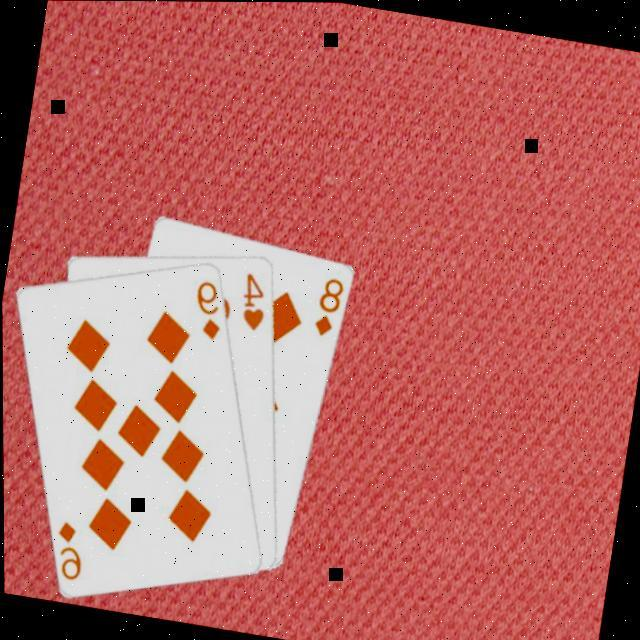4H: (236, 266, 274, 332)
8D: (310, 270, 350, 340)
9D: (186, 272, 232, 342), (48, 514, 92, 584)
